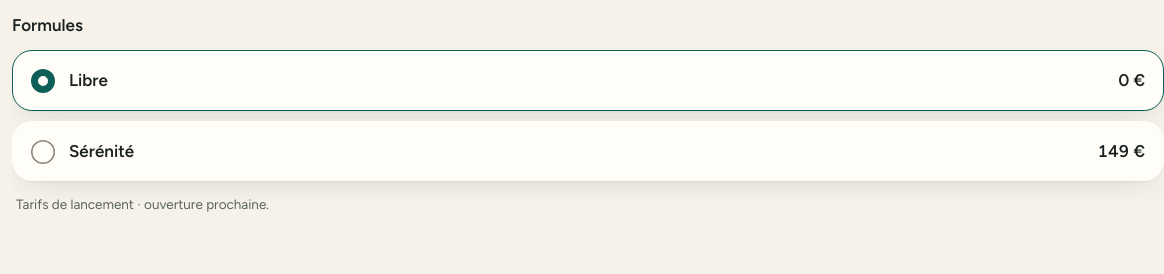
PlanRadio › utilise des radios natives et affiche la mention des tarifs de lancement
This screenshot has width=1164, height=274.
expect the text "Tarifs de lancement · ouverture prochaine." is shown: met, box [16,196,269,212]
expect the text "Une visite par semaine" is not shown: met
Click the radio button labelled "Sérénité 149 €": (102, 151) [12,121,1163,181]
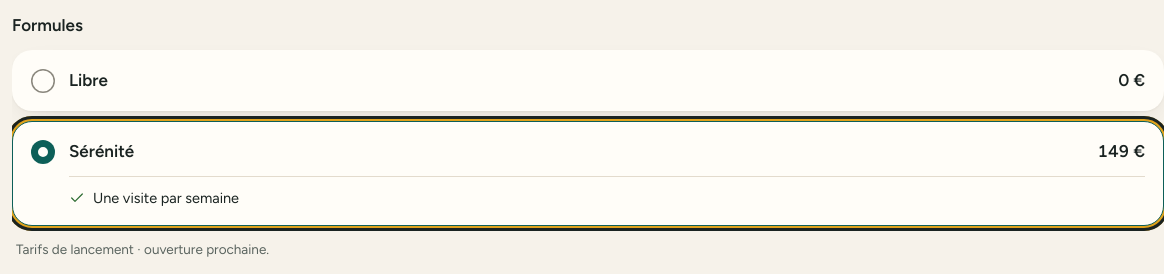
expect the radio button labelled "Sérénité 149 € Une visite par semaine" is checked: met, box [12,121,1163,226]
expect the list item "Une visite par semaine" is shown: met, box [69,189,239,207]
